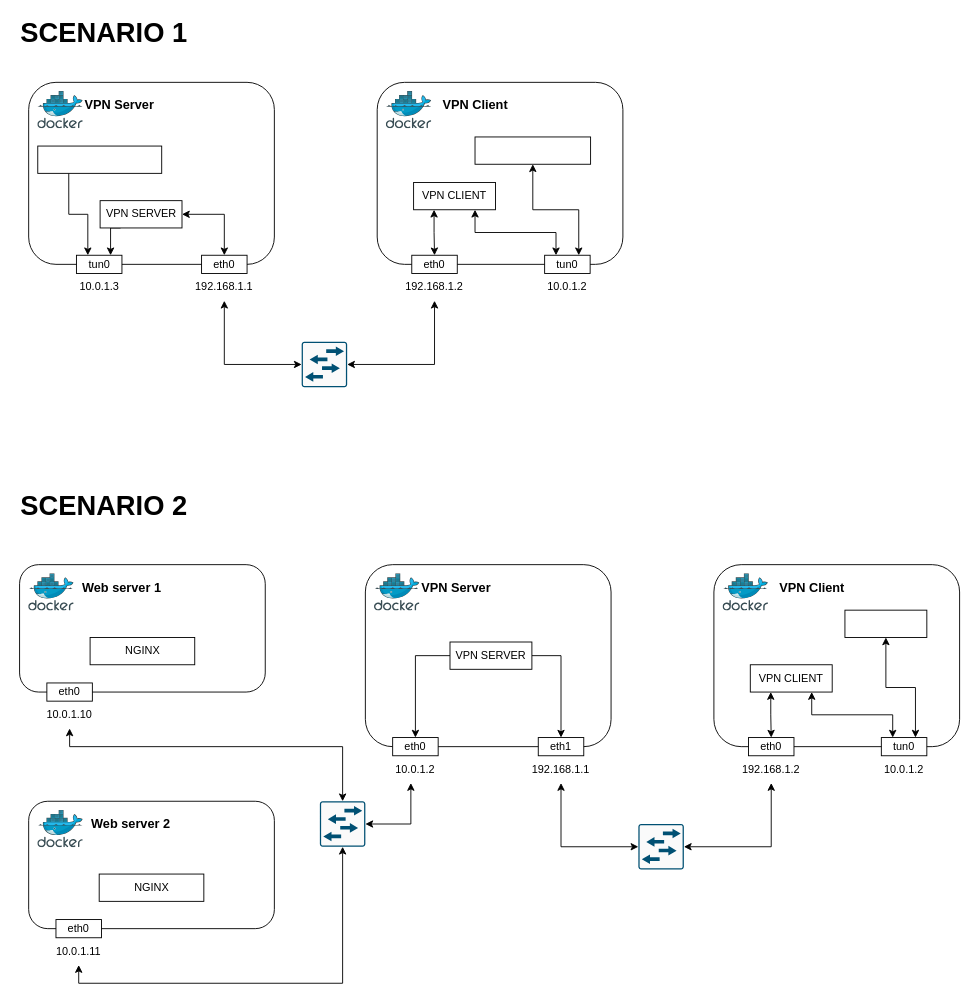
The diagram is 976 pixels wide and 1007 high, and some of its shapes have lost their labels. Each missing label, with the box of its shape:
curl 10.0.1.10: (844, 609, 927, 637)
nc -l -s 10.0.1.3 -p 3000: (37, 145, 162, 173)
nc 10.0.1.3 3000: (474, 136, 591, 164)
